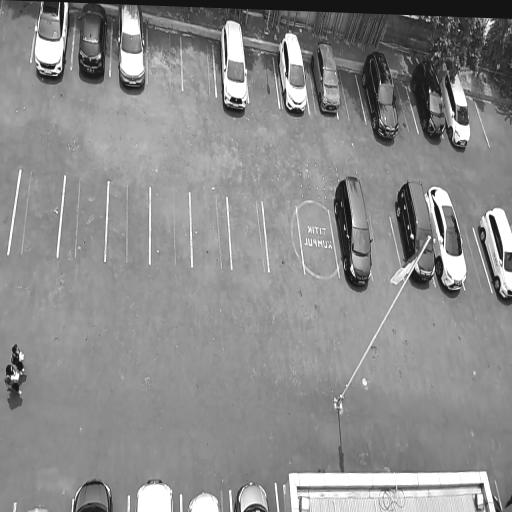Car: (423, 181, 471, 301), (331, 175, 375, 292), (392, 179, 437, 287), (359, 48, 402, 144), (31, 1, 75, 87), (477, 205, 512, 309), (408, 55, 448, 143), (275, 30, 310, 121), (218, 19, 249, 116), (439, 64, 472, 155), (115, 4, 146, 94), (75, 3, 109, 82), (308, 40, 343, 114), (71, 477, 115, 512), (134, 477, 175, 512), (234, 480, 270, 512), (186, 490, 221, 512), (25, 505, 54, 512)
Space Available: (9, 171, 64, 256), (59, 177, 108, 261), (105, 181, 150, 264), (151, 186, 191, 268), (227, 197, 269, 270), (190, 193, 231, 267), (262, 201, 303, 275), (297, 207, 340, 277), (0, 1, 38, 62), (181, 31, 216, 97), (368, 215, 404, 279), (147, 25, 182, 89), (459, 226, 492, 291), (244, 46, 279, 107), (0, 165, 20, 254), (336, 68, 366, 122), (391, 79, 418, 131), (465, 95, 490, 148)
